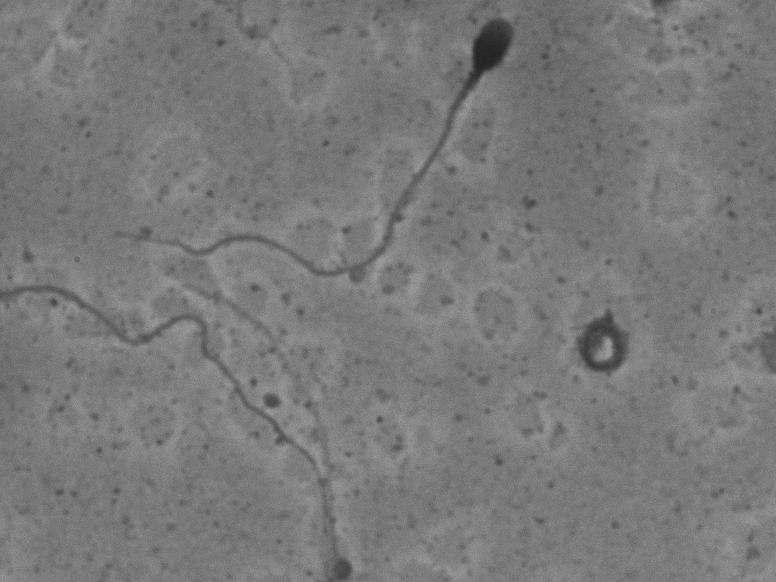Normal: (107, 8, 523, 287)
